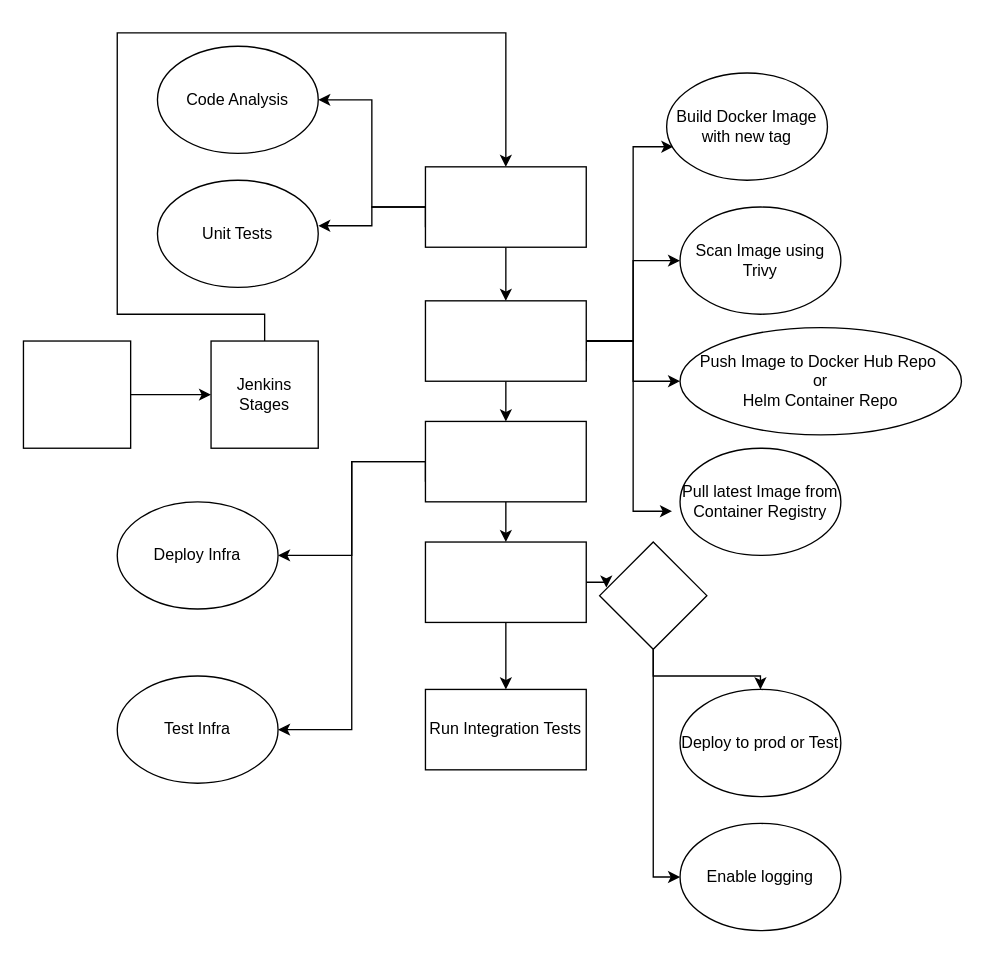
This 985x954 diagram has some shape labels left out. Here are the shapes that lost their labels. From the top down, the centre of each, then its label:
At point (505, 206): "Build Using Jenkins".
At point (505, 340): "Push Image to Docker".
At point (76, 394): "Push Everything to GITHUB".
At point (505, 461): "Deploy Infrastructure if Applicable".
At point (505, 581): "SSH into Kubernetes".
At point (652, 595): "Manual Approval?".
